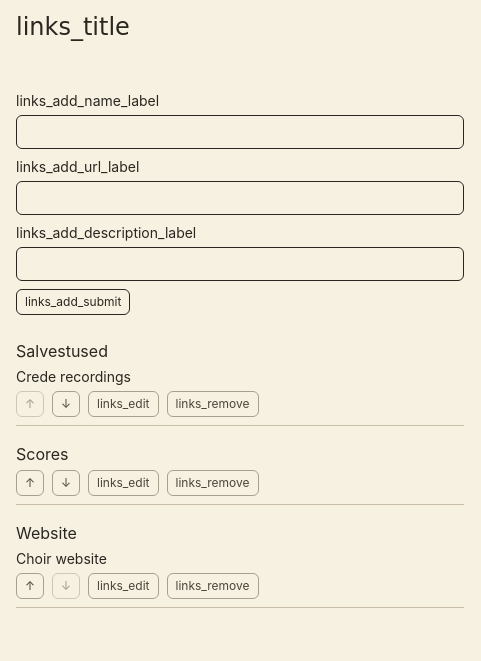
#323 — FAILED: truthful alert, retry available, screen restored to the SERVER order › a rejected reorder surfaces role="alert" links_reorder_failed, RE-READS the list (mid-loop throw leaves the server half-renumbered) and renders the server order
Click the button with test id "links-move-down" below "Scores": (66, 483) [52, 470, 80, 496]
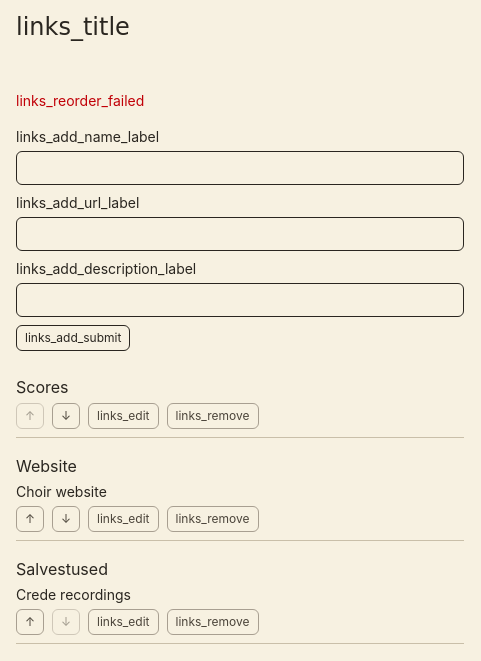
expect the message "links_reorder_failed" is shown: met, box [16, 92, 144, 109]
expect the button with test id "links-move-down" below "Choir website" is enabled: met, box [52, 506, 80, 532]
